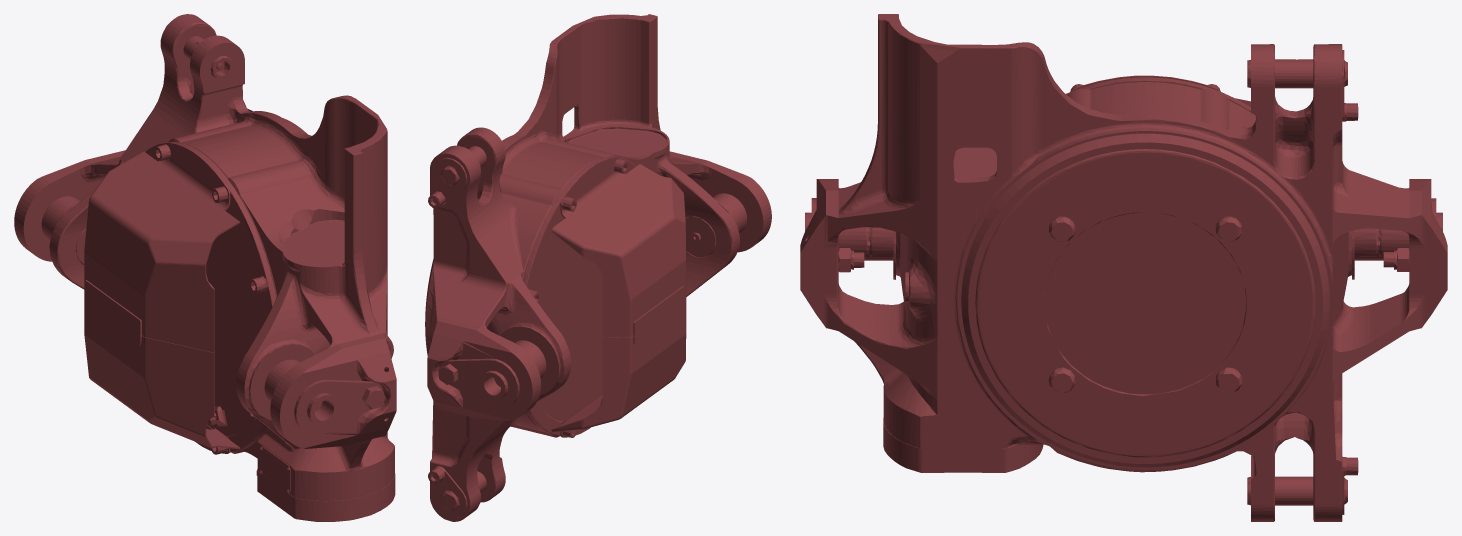
The model's file is ROTO.dae.
3 views of the same model, side by side, from view 1: azimuth 30°, elevation 25°; view 2: azimuth 150°, elevation 25°; view 3: azimuth 270°, elevation 25° (orthographic). The views are drawn at different scales.
Visible parts, largest first — view 1: node; view 2: node; view 3: node.
Boxes of the visible parts, x1,y1,x2,y2 form: node: (14,14,396,521); node: (425,14,771,521); node: (800,14,1447,521).
Size of the model in its own units: 0.2719 by 0.5615 by 0.675.
